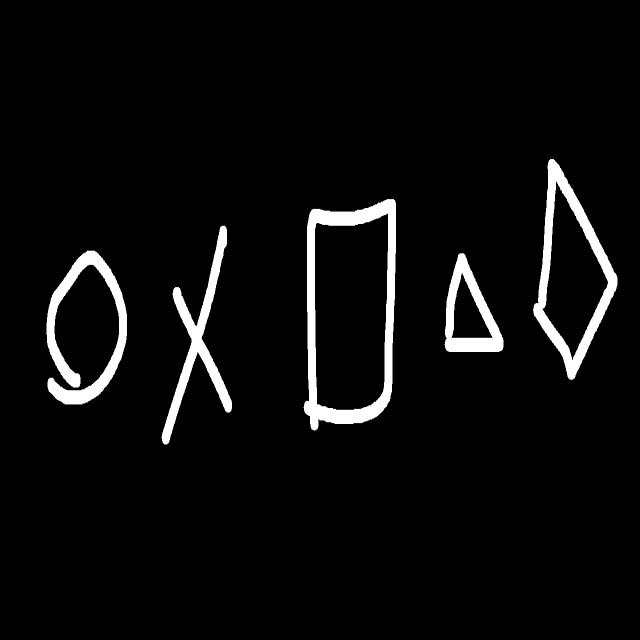circle: (45, 247, 130, 404)
cross: (160, 221, 236, 440)
diamond: (532, 155, 618, 378)
rectangle: (303, 196, 399, 428)
triangle: (444, 249, 506, 354)
